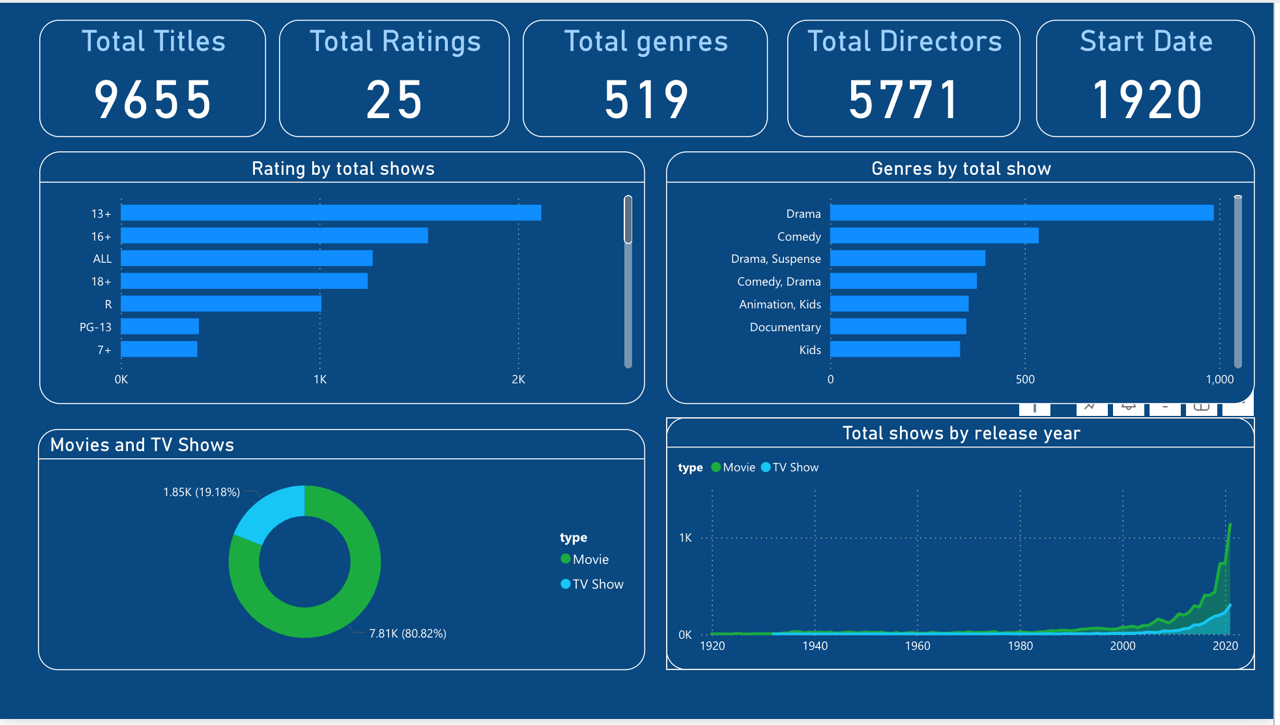

This screenshot's page, from the dashboard's own definition file:
{"tool":"powerbi","page":{"name":"Page 1","canvas":[1280,720],"ordinal":0},"visuals":[{"type":"donutChart","title":"Movies and TV Shows","fields":{"Category":["amazon_prime_titles.type"],"Y":["Count(amazon_prime_titles.show_id)"]},"box":[38,428.4,610.5,242.4],"z":0},{"type":"areaChart","title":"Total shows by release year","fields":{"Category":["amazon_prime_titles.release_year"],"Y":["CountNonNull(amazon_prime_titles.show_id)"],"Series":["amazon_prime_titles.type"]},"box":[669.5,416.6,592.2,254.2],"z":1000},{"type":"barChart","title":"Rating by total shows","fields":{"Category":["amazon_prime_titles.rating"],"Y":["Count(amazon_prime_titles.show_id)"]},"box":[39.3,149.4,609.2,254.2],"z":1001},{"type":"barChart","title":"Genres by total show","fields":{"Y":["Count(amazon_prime_titles.show_id)"],"Category":["amazon_prime_titles.listed_in"]},"box":[669.5,149.4,592.2,254.2],"z":1002},{"type":"card","title":"Total Titles","fields":{"Values":["Count(amazon_prime_titles.title)"]},"box":[39.3,17,228,117.9],"z":1003},{"type":"card","title":"Total Ratings","fields":{"Values":["Count(amazon_prime_titles.rating)"]},"box":[280.4,17,231.9,117.9],"z":1004},{"type":"card","title":"Total genres","fields":{"Values":["Count(amazon_prime_titles.listed_in)"]},"box":[525.4,17,246.3,117.9],"z":1006},{"type":"card","title":"Total  Directors","fields":{"Values":["Count(amazon_prime_titles.director)"]},"box":[791.3,17,234.5,117.9],"z":1007},{"type":"card","title":"Start Date","fields":{"Values":["Min(amazon_prime_titles.release_year)"]},"box":[1041.6,17,220.1,117.9],"z":1008}]}

Visuals, with their boxes in screenshot pixels (x1, y1, x2, y2), scaled from the page's 1280x720 canvas onto the 1280x725 screenshot:
"Movies and TV Shows" donutChart: crop(38, 431, 648, 675)
"Total shows by release year" areaChart: crop(670, 419, 1262, 675)
"Rating by total shows" barChart: crop(39, 150, 648, 406)
"Genres by total show" barChart: crop(670, 150, 1262, 406)
"Total Titles" card: crop(39, 17, 267, 136)
"Total Ratings" card: crop(280, 17, 512, 136)
"Total genres" card: crop(525, 17, 772, 136)
"Total  Directors" card: crop(791, 17, 1026, 136)
"Start Date" card: crop(1042, 17, 1262, 136)
